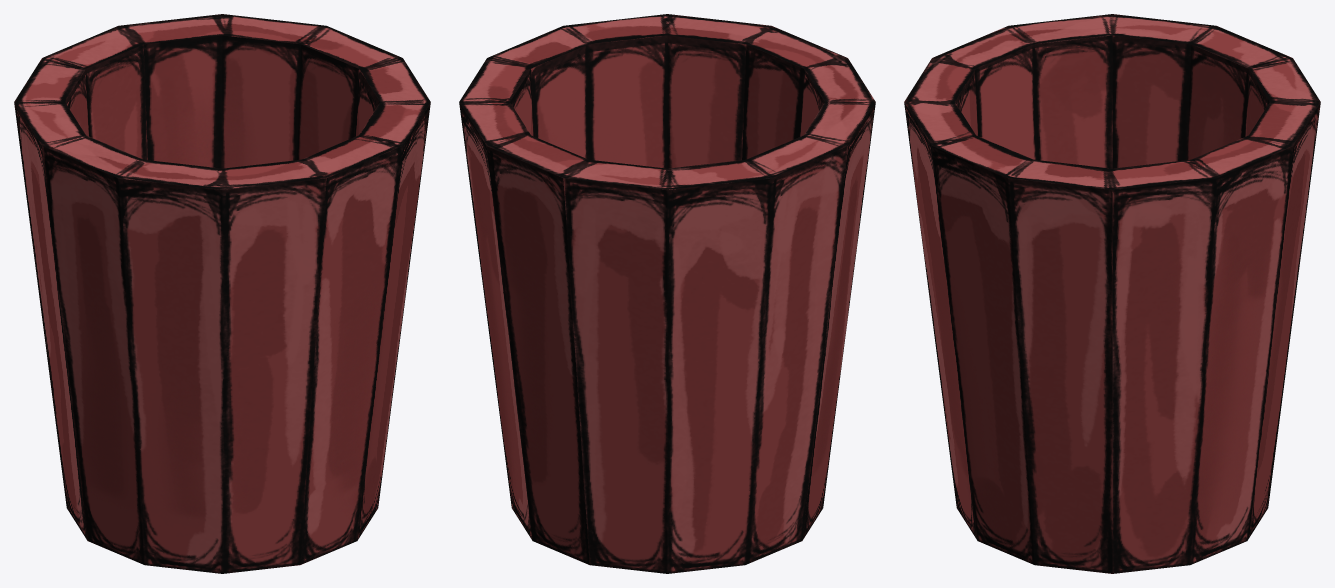
The model's file is glass.fbx.
3 renders of one model, left to right at view 1: azimuth 30°, elevation 25°; view 2: azimuth 150°, elevation 25°; view 3: azimuth 270°, elevation 25°, orthographic.
Parts seen in each view (by area): view 1: glass; view 2: glass; view 3: glass.
Part boxes in pixels (left/top/right/bottom): glass: left=14, top=14, right=430, bottom=573; glass: left=459, top=14, right=875, bottom=573; glass: left=904, top=14, right=1320, bottom=573.
Bounding box in the file's own units: 0.1332 × 0.1432 × 0.1332.
1 material, 1 textured.
